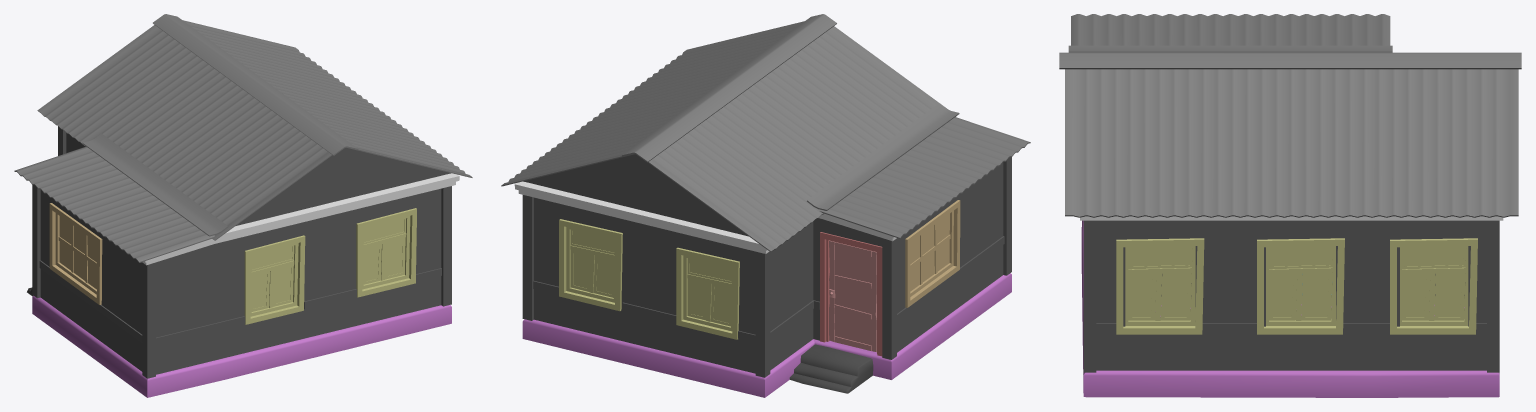
File: house-1.fbx
3 views of the same model, side by side, from view 1: azimuth 30°, elevation 25°; view 2: azimuth 150°, elevation 25°; view 3: azimuth 270°, elevation 25° (orthographic). The views are drawn at different scales.
Parts seen in each view (by area): view 1: Plane001, Box001, Object, Object015, Object014, Object007, Shape002; view 2: Plane001, Box001, Object, Object010, Object009, Box002, Object007, Shape002, Box003, Object003; view 3: Plane001, Box001, Object, Object013, Object012, Object011, Shape002.
Part boxes in pixels (x1,y1,x2,y2): Plane001: (14,14,472,262); Box001: (32,126,451,378); Object: (32,295,451,397); Object015: (244,235,305,324); Object014: (356,208,416,297); Object007: (49,203,102,304); Shape002: (142,173,459,265); Plane001: (501,14,1030,251); Box001: (522,154,1011,377); Object: (522,273,1011,397); Object010: (559,219,622,311); Object009: (676,247,739,339); Box002: (829,240,876,352); Object007: (905,200,960,307); Shape002: (514,181,896,253); Box003: (789,344,873,393); Object003: (820,232,882,356); Plane001: (1059,14,1521,217); Box001: (1083,220,1499,372); Object: (1081,220,1499,397); Object013: (1116,238,1204,334); Object012: (1257,238,1344,334); Object011: (1390,238,1477,334); Shape002: (1080,216,1503,220).
Bounding box in the file's own units: 7.22 × 6.83 × 4.42.
